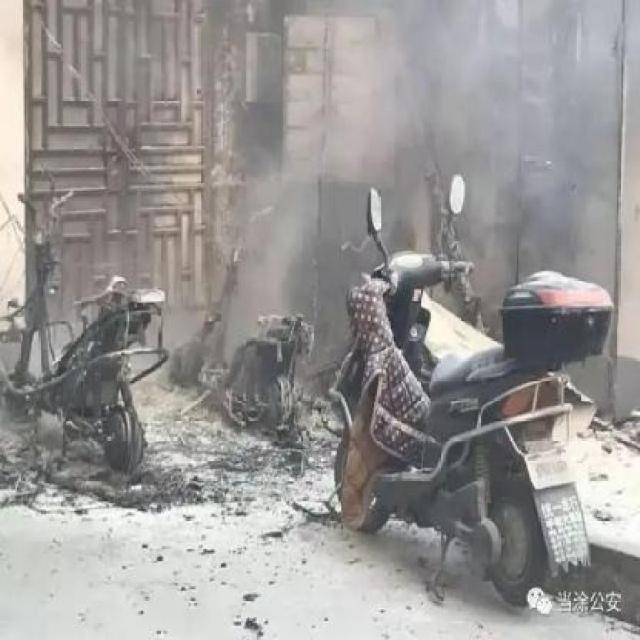Smoke: (394, 24, 518, 260), (240, 194, 296, 342)
